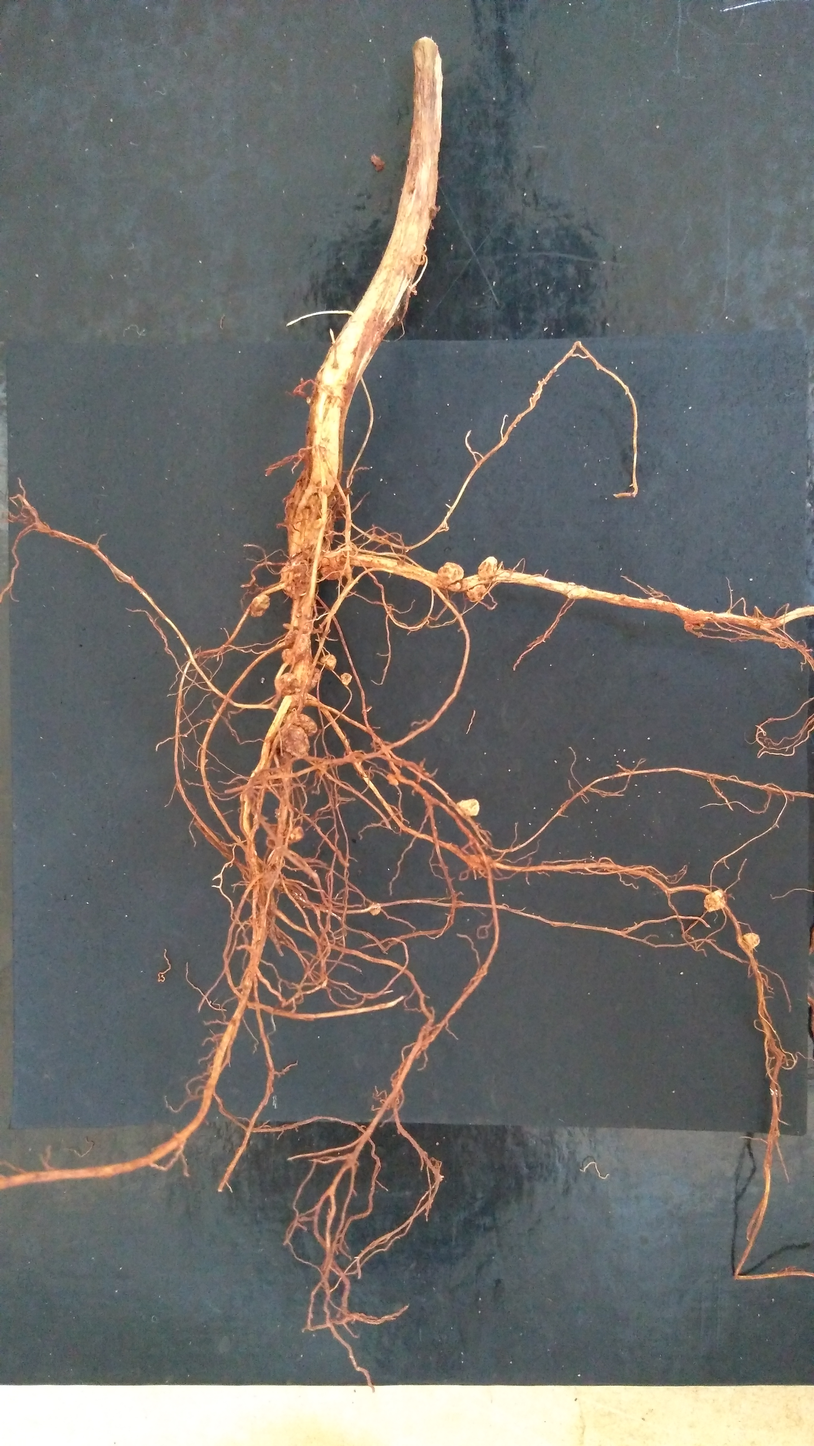nodule: (280, 561, 309, 599), (277, 725, 310, 757), (268, 824, 304, 845), (438, 562, 464, 591), (283, 714, 317, 736), (270, 750, 292, 783), (279, 672, 300, 698), (704, 889, 726, 912), (320, 564, 349, 580), (478, 556, 498, 579), (251, 595, 270, 617), (260, 870, 282, 889), (466, 854, 492, 870), (295, 634, 311, 659), (457, 798, 479, 816), (465, 584, 487, 602), (739, 932, 760, 950), (309, 667, 320, 691), (282, 648, 298, 664), (321, 654, 336, 670), (285, 630, 297, 645), (368, 902, 381, 915), (386, 773, 399, 786), (340, 672, 352, 685), (314, 518, 327, 529), (430, 206, 437, 220), (323, 484, 332, 494), (321, 557, 329, 566), (397, 559, 405, 567), (283, 623, 292, 630)
